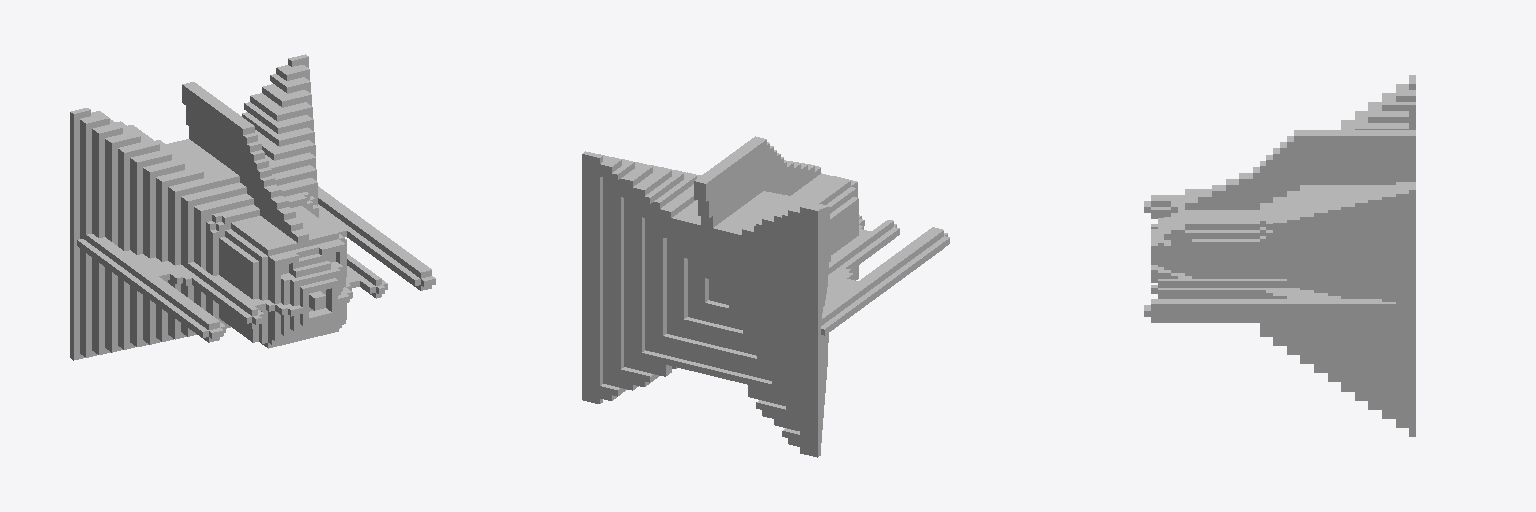
File: enemy1.obj
3 renders of one model, left to right at view 1: azimuth 30°, elevation 25°; view 2: azimuth 150°, elevation 25°; view 3: azimuth 270°, elevation 25°, orthographic.
Parts seen in each view (by area): view 1: object 1; view 2: object 1; view 3: object 1.
Boxes of the visible parts, <box> form: object 1: <box>70,54,435,360</box>; object 1: <box>582,136,949,457</box>; object 1: <box>1144,75,1415,436</box>.
Size of the model in its own units: 4 by 4 by 4.